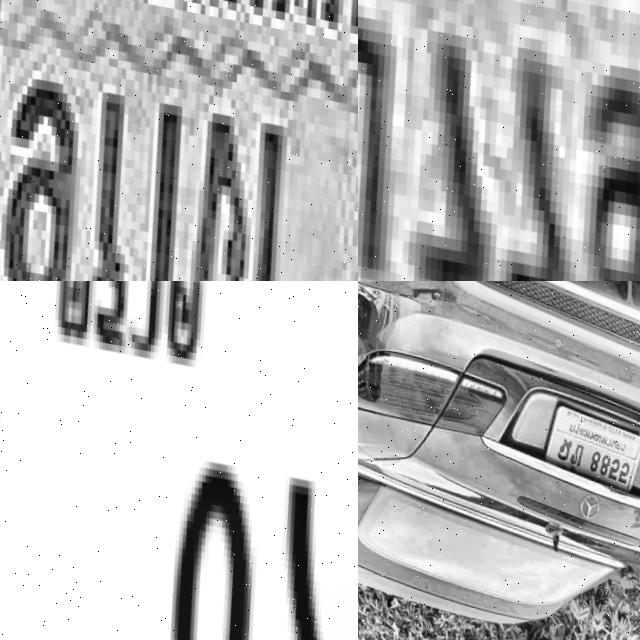license-plate: (0, 281, 358, 640), (0, 0, 358, 281), (358, 0, 640, 281), (528, 398, 640, 491)
